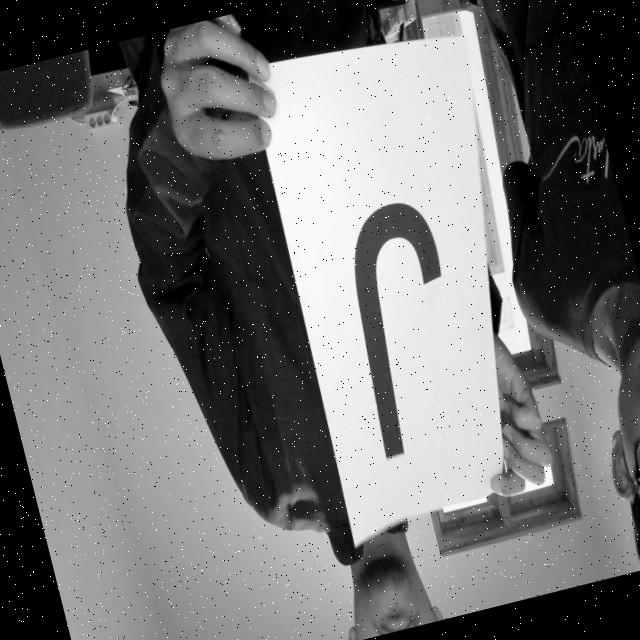j: (306, 176, 491, 473)
